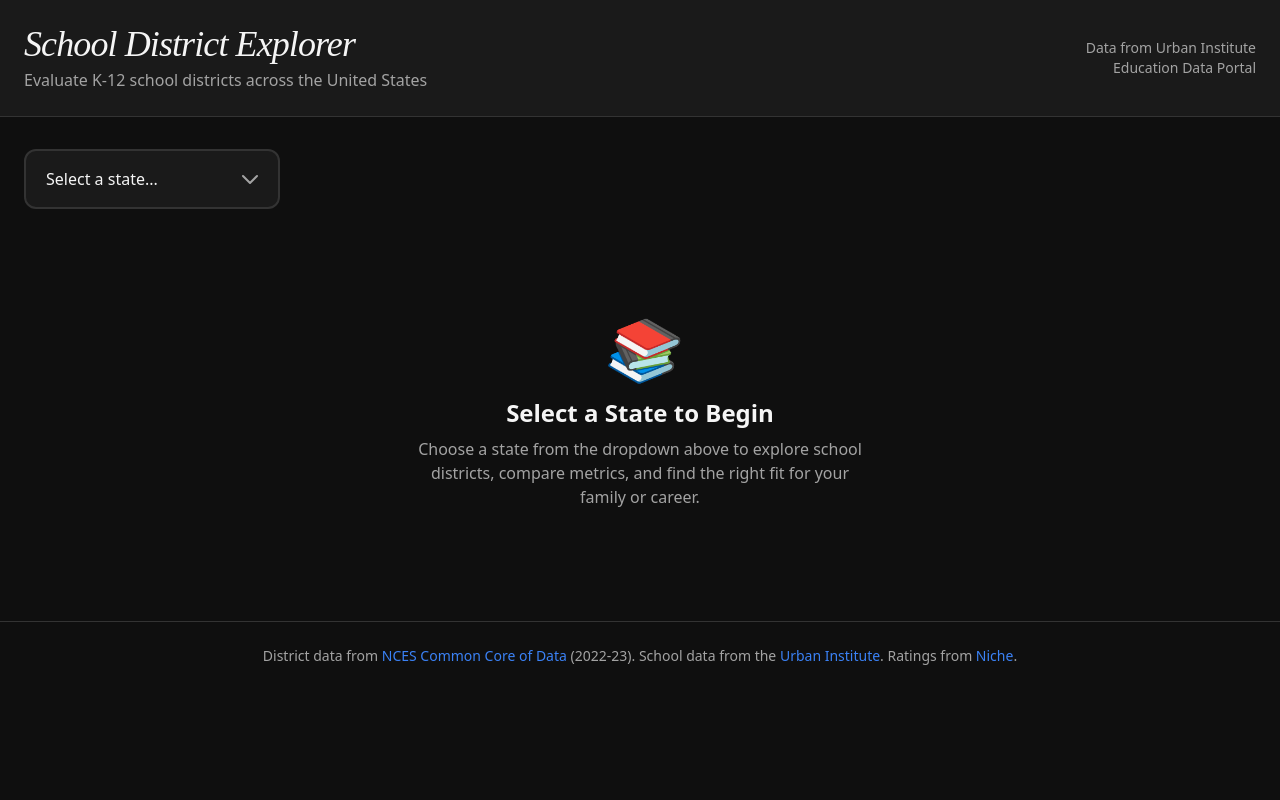
Scenario: App › should show loading state when fetching districts
Select "California" in the dropdown at x=152, y=179, box x1=24 y1=149 x2=280 y2=209
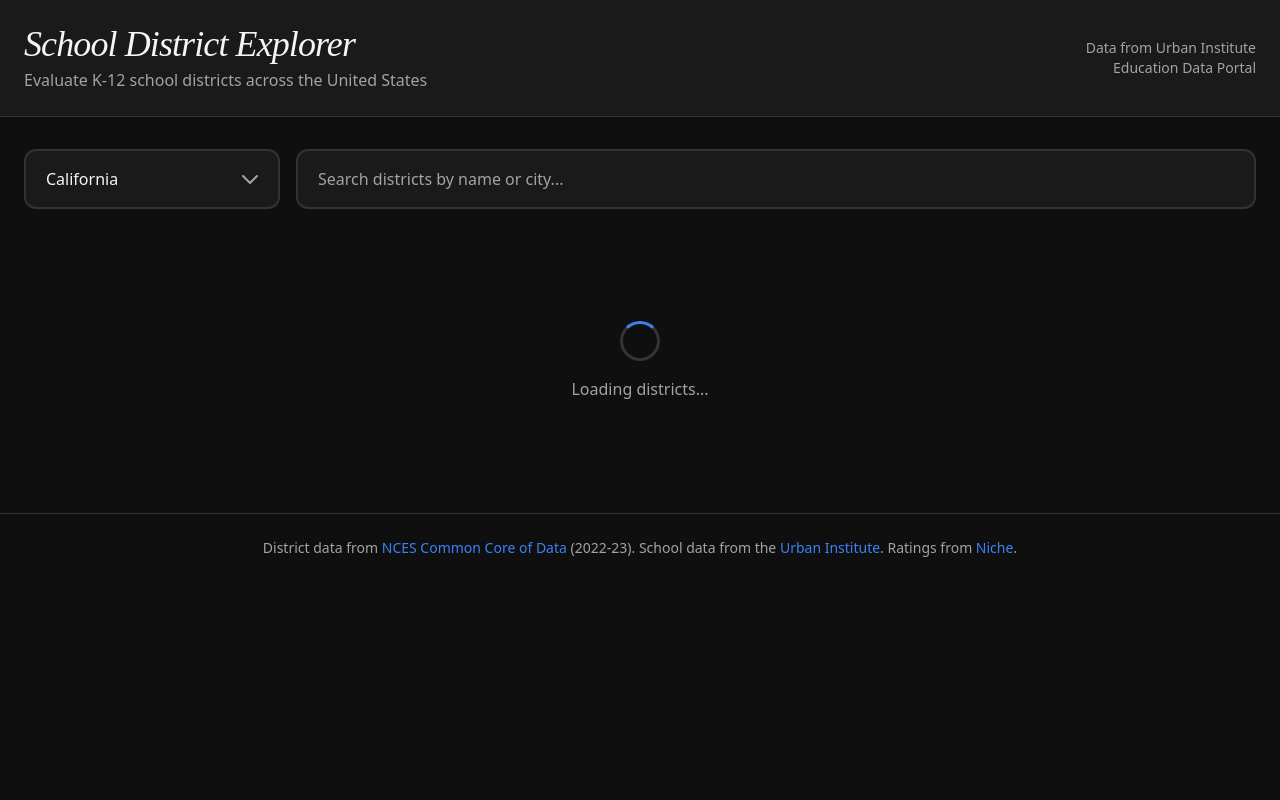
expect the text "Loading districts..." is shown: met, box x1=572 y1=377 x2=708 y2=401
